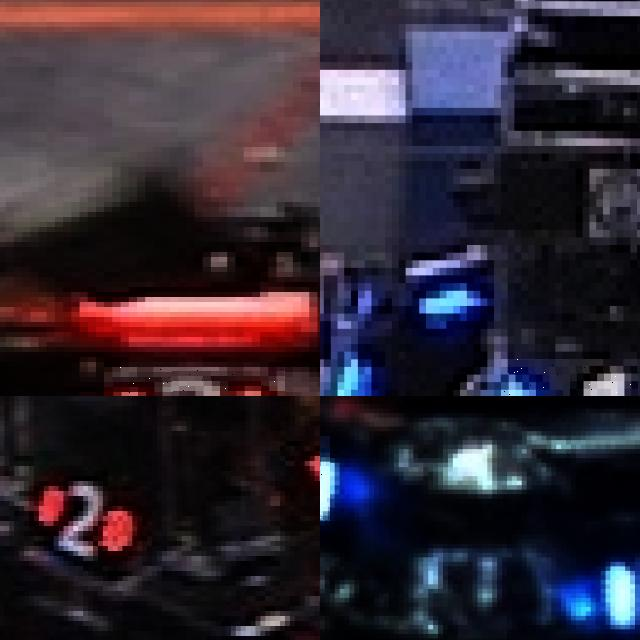B1: (500, 359, 640, 396)
Bs: (605, 557, 640, 624)
R2: (34, 476, 137, 561), (104, 367, 284, 396)
